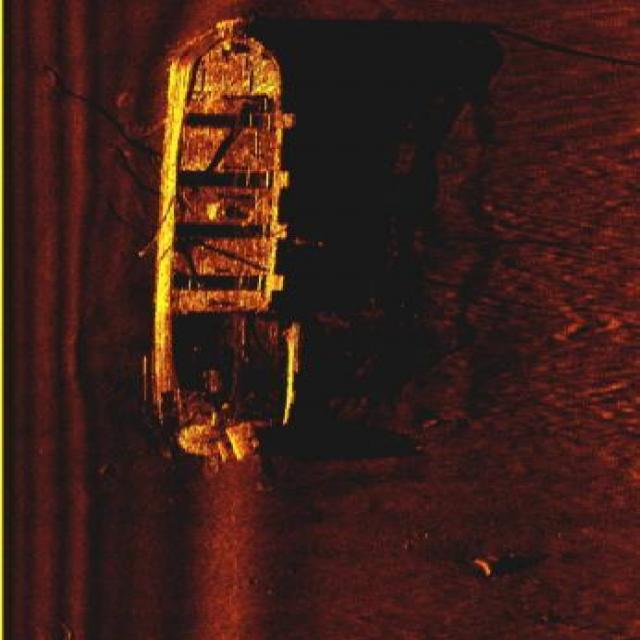ship: (152, 11, 292, 466)
